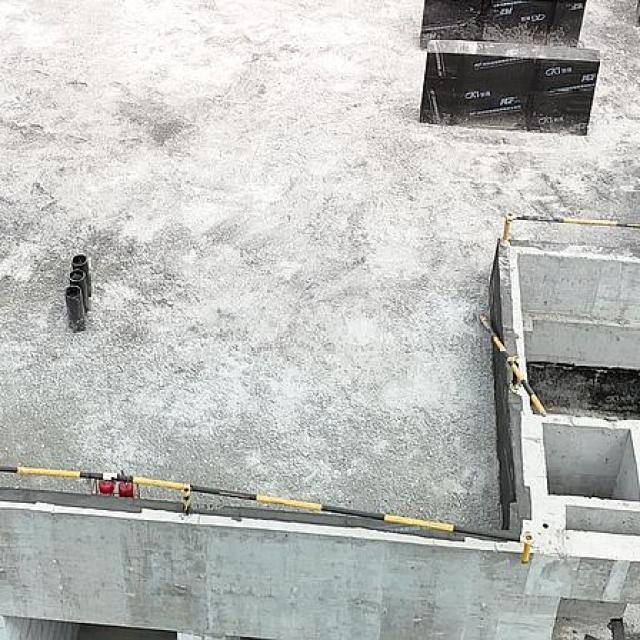edge_guardrail: (0, 464, 534, 567), (478, 314, 548, 419), (498, 212, 640, 245)
